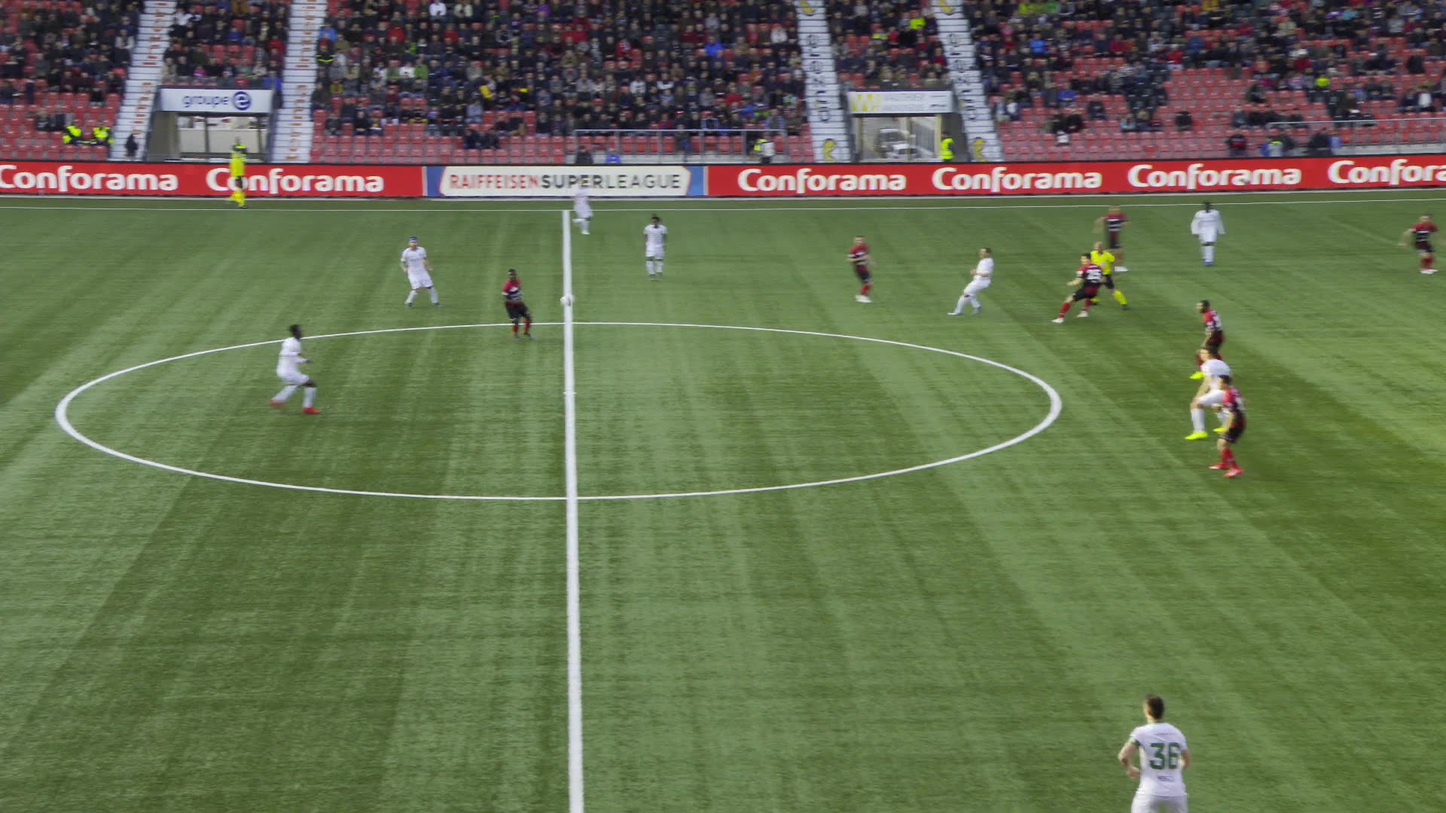ball: (560, 294, 575, 305)
player: (1115, 695, 1188, 812), (251, 324, 320, 413), (1180, 343, 1225, 438), (1206, 370, 1243, 474), (1048, 251, 1102, 321), (944, 246, 991, 317), (1182, 301, 1219, 378), (397, 236, 433, 307), (1398, 212, 1439, 273), (839, 233, 873, 303), (1084, 203, 1120, 269), (496, 266, 528, 338), (1185, 199, 1219, 265), (558, 175, 590, 234), (637, 215, 660, 279)
referee: (1079, 238, 1118, 309), (228, 148, 252, 207)
